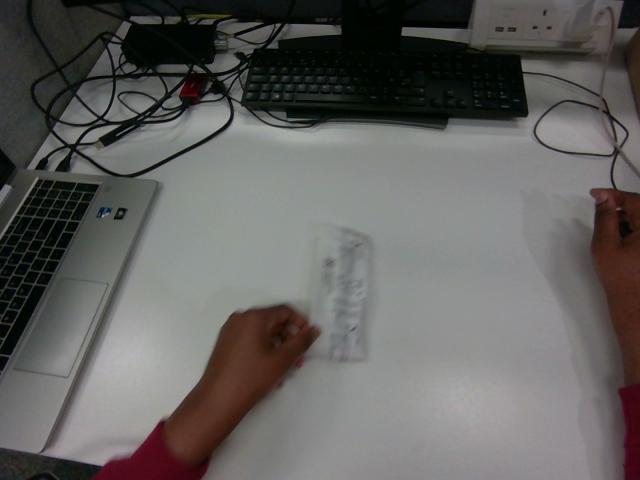syringe: (309, 226, 372, 360)
